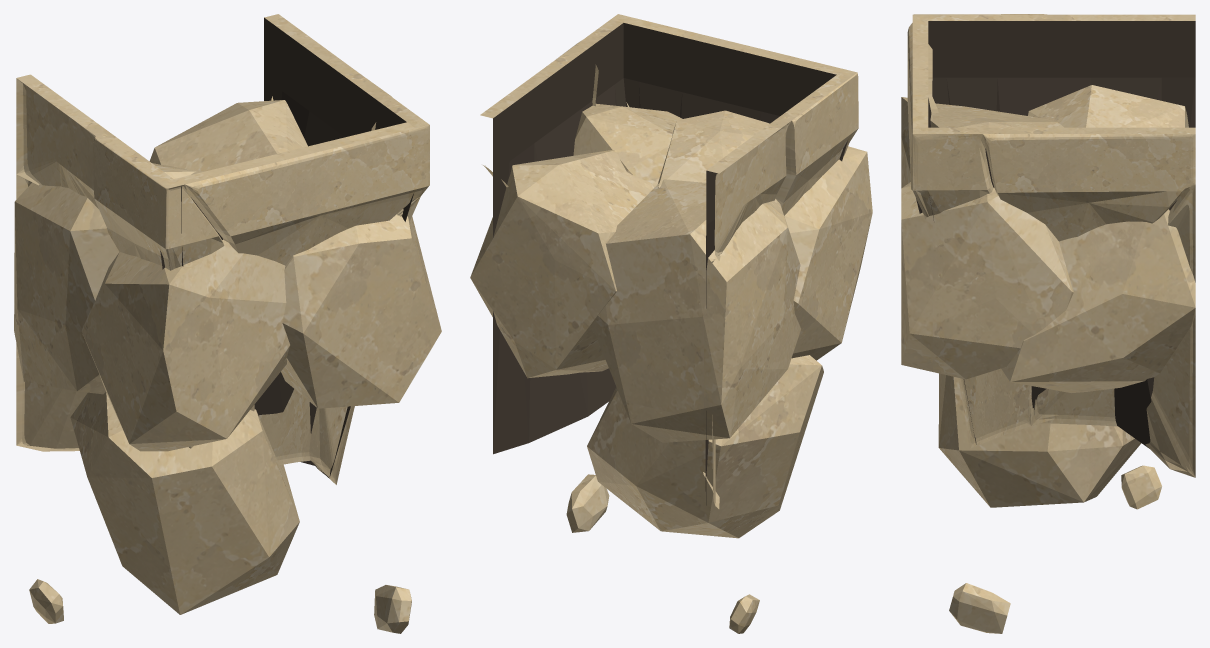
The model's file is ground_bottom_square_end_05.glb.
3 renders of one model, left to right at view 1: azimuth 30°, elevation 25°; view 2: azimuth 150°, elevation 25°; view 3: azimuth 270°, elevation 25°, orthographic. The views are drawn at different scales.
Visible parts, largest first — view 1: GroundBottomSquareEnd05_Body; view 2: GroundBottomSquareEnd05_Body; view 3: GroundBottomSquareEnd05_Body.
Boxes of the visible parts, x1,y1,x2,y2 form: GroundBottomSquareEnd05_Body: (14, 14, 441, 633); GroundBottomSquareEnd05_Body: (470, 14, 872, 633); GroundBottomSquareEnd05_Body: (901, 14, 1195, 633).
Bounding box in the file's own units: 1.08 × 1.95 × 1.04.
12 materials, 11 textured.
